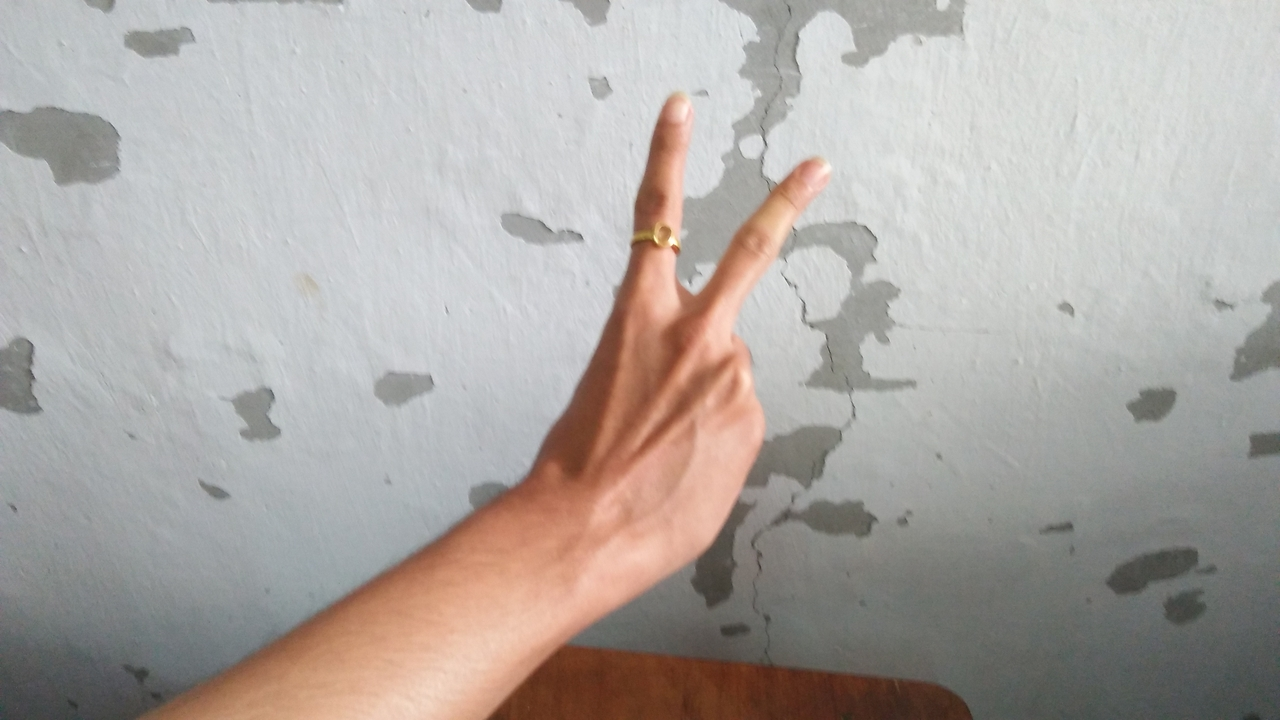fingertip: (770, 140, 848, 200), (648, 82, 708, 132)
